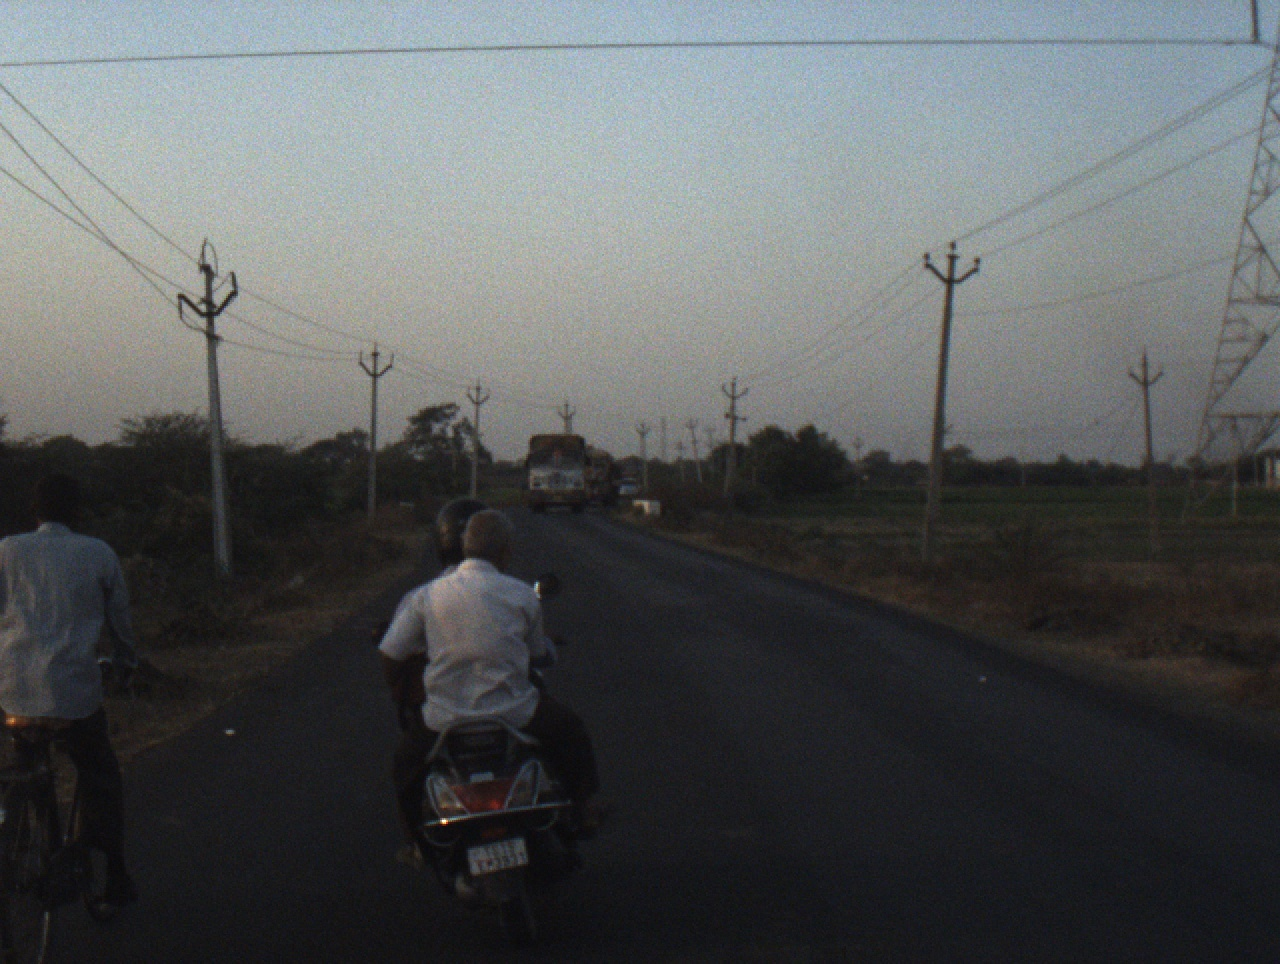bicycle: (1, 653, 154, 945)
car: (618, 474, 640, 499)
motorcycle: (375, 569, 608, 939)
rider: (368, 511, 601, 868), (1, 455, 143, 920), (390, 496, 484, 612)
truck: (518, 429, 595, 516), (581, 441, 620, 512)
